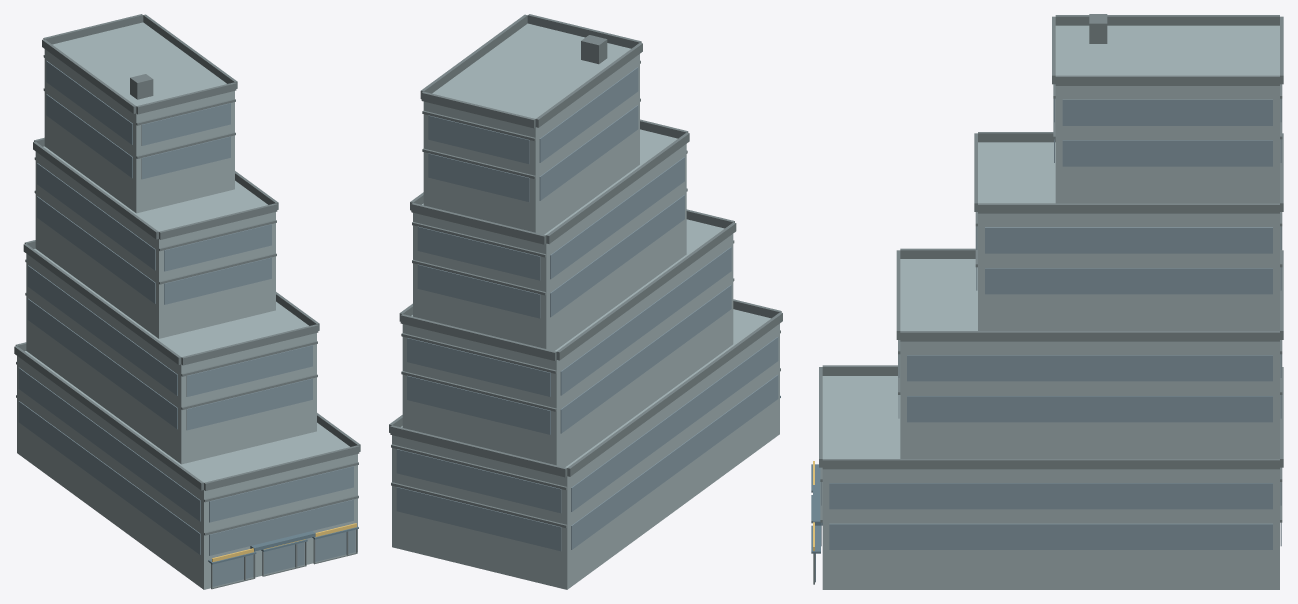
Rendered from commercial_2x4_terraces.glb.
3 renders of one model, left to right at view 1: azimuth 30°, elevation 25°; view 2: azimuth 150°, elevation 25°; view 3: azimuth 270°, elevation 25°, orthographic. The views are drawn at different scales.
Parts seen in each view (by area): view 1: commercial_2x4_terraces_0; view 2: commercial_2x4_terraces_0; view 3: commercial_2x4_terraces_0.
Boxes of the visible parts, x1=… form: commercial_2x4_terraces_0: x1=14, y1=14, x2=360, y2=589; commercial_2x4_terraces_0: x1=389, y1=14, x2=782, y2=589; commercial_2x4_terraces_0: x1=811, y1=14, x2=1283, y2=589.
Bounding box in the file's own units: 15 × 37.5 × 31.5.
